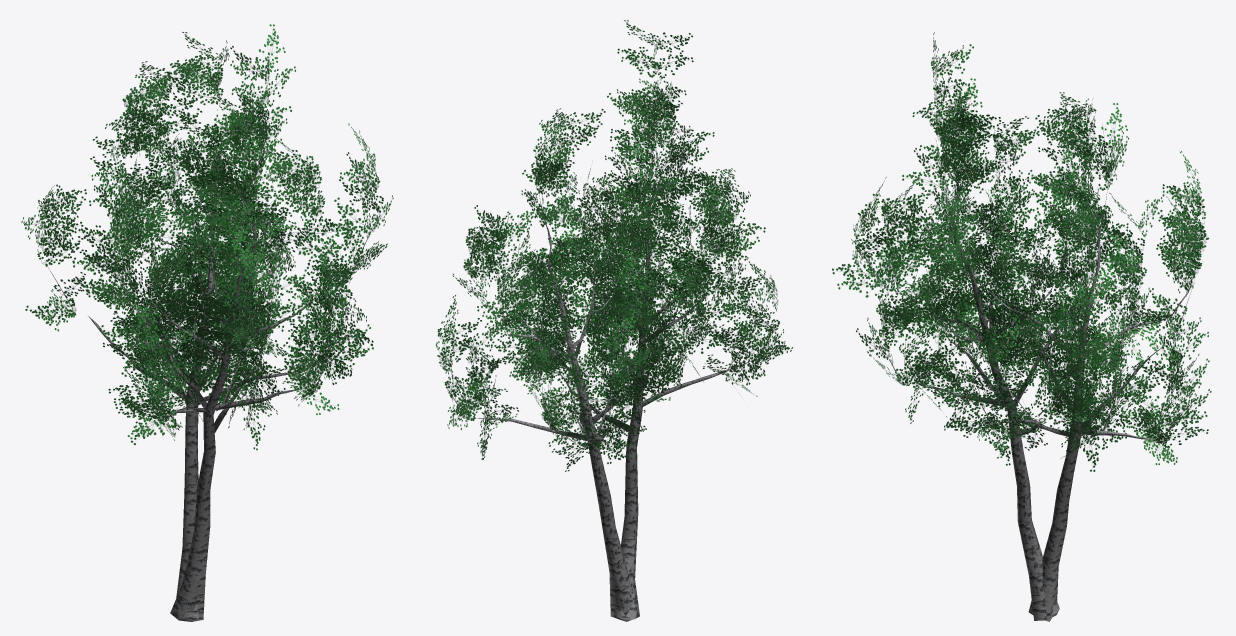
Rendered from Birke 4.glb.
3 renders of one model, left to right at view 1: azimuth 30°, elevation 25°; view 2: azimuth 150°, elevation 25°; view 3: azimuth 270°, elevation 25°, orthographic. The views are drawn at different scales.
Parts seen in each view (by area): view 1: Birke 4; view 2: Birke 4; view 3: Birke 4.
Boxes of the visible parts, x1=… form: Birke 4: x1=21, y1=24, x2=393, y2=621; Birke 4: x1=435, y1=20, x2=792, y2=621; Birke 4: x1=832, y1=32, x2=1211, y2=621.
Size of the model in its own units: 1.07 by 2.05 by 1.22.
2 materials, 2 textured.
